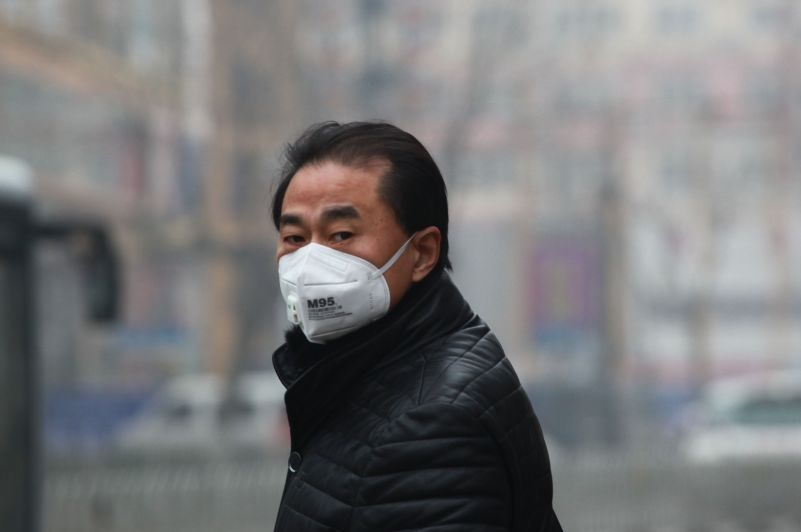face_mask: (279, 168, 401, 341)
